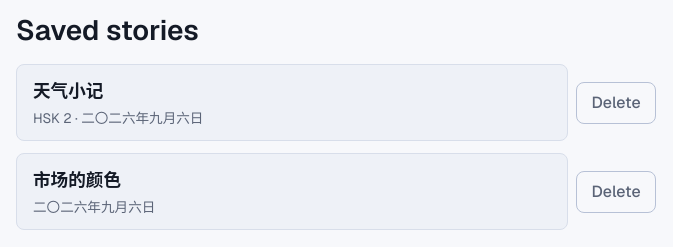
StoriesPage › deleting a story › leaves the story untouched when the confirmation is cancelled
The width and height of the screenshot is (673, 247).
Expected: the link "天气小记 HSK 2 · 二〇二六年九月六日" is shown, [16, 64, 568, 141]
Step 1. Click the button "Delete" in the row of "天气小记" → coordinates (616, 103), box [576, 82, 656, 124]
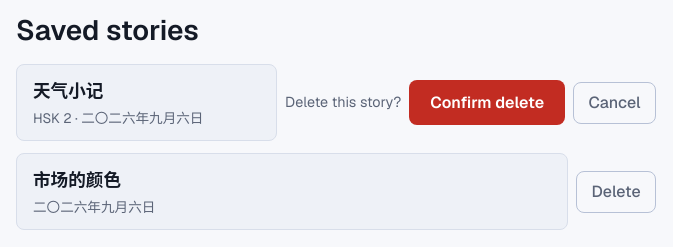
Step 2. Click the button "Cancel" → coordinates (615, 103), box [573, 82, 656, 124]
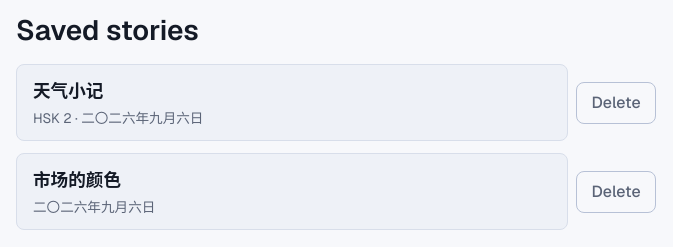
Expected: the link "天气小记 HSK 2 · 二〇二六年九月六日" is shown, [16, 64, 568, 141]
Expected: the button "Confirm delete" is gone
